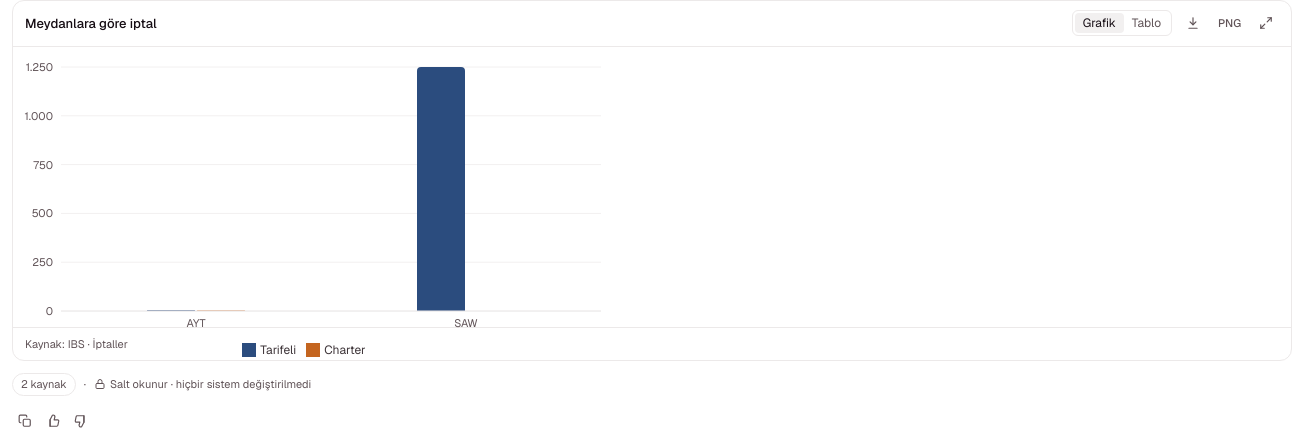
sohbet grafikleri › Grafik/Tablo geçişi Türkçe biçimle tablo gösterir
The width and height of the screenshot is (1292, 445).
Click the button "Tablo".
click(1146, 23)  # box [1124, 13, 1169, 33]
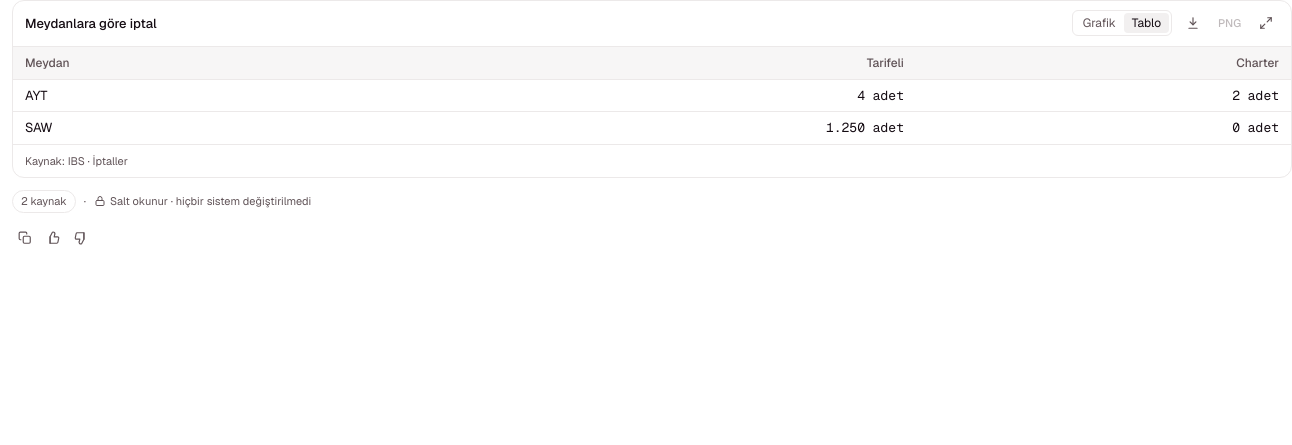
Check: the text "1.250 adet" is shown, box [376, 112, 916, 144]
Check: the column headings read "Meydan", "Tarifeli", "Charter", in this order, box [13, 46, 376, 79]; [376, 46, 916, 79]; [916, 46, 1291, 79]
